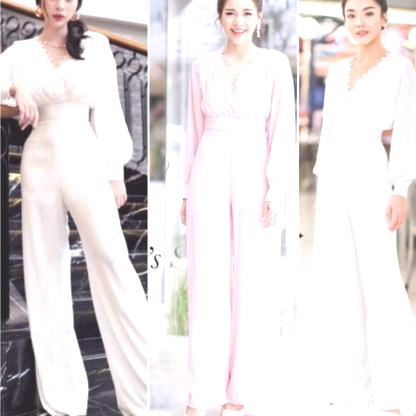dress: (0, 25, 145, 415), (183, 41, 295, 410), (311, 48, 416, 410)
